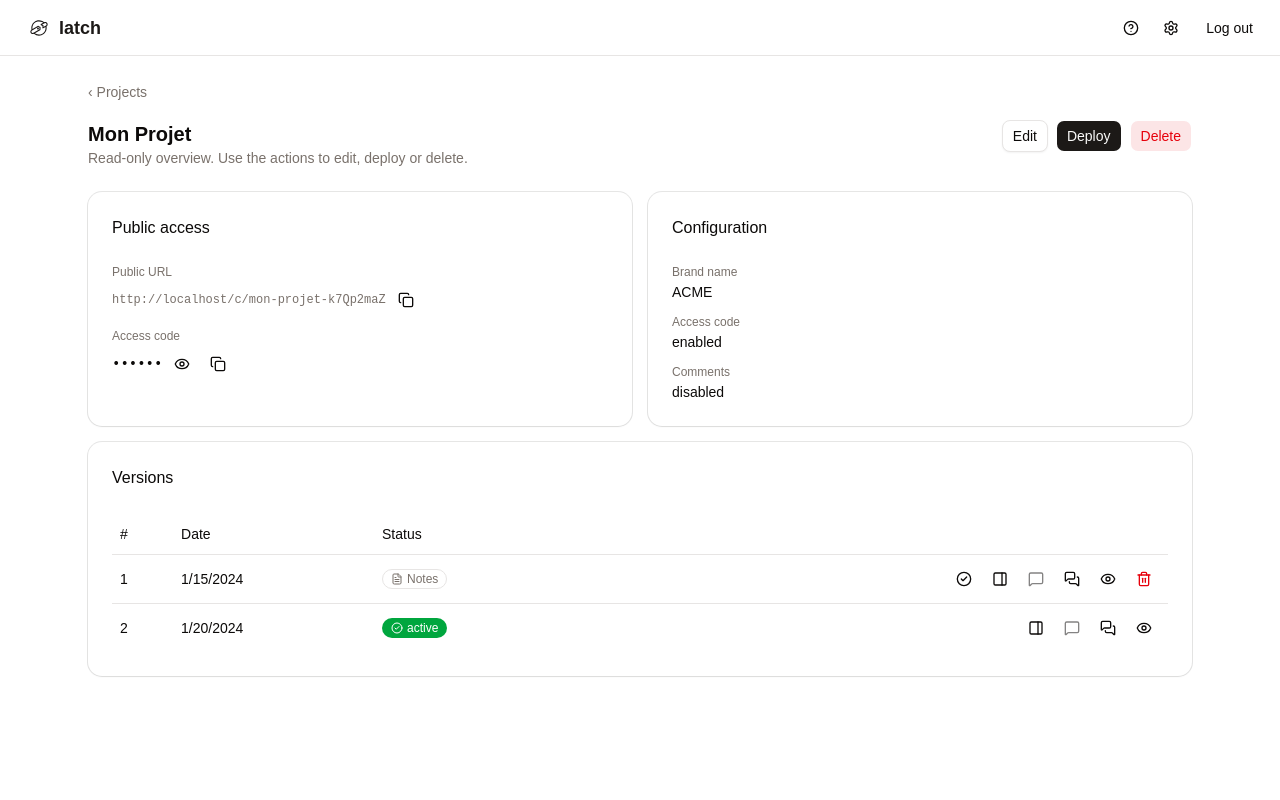
Test: DetailPage › opens the delete-version panel for a non-active version
The width and height of the screenshot is (1280, 800).
expect the text "Versions" is shown: met, box [112,469,173,486]
# Last "Delete" is the per-row one (header Delete is first).
Click the button named "Delete".
click(1144, 578)  # box [1128,562,1160,594]
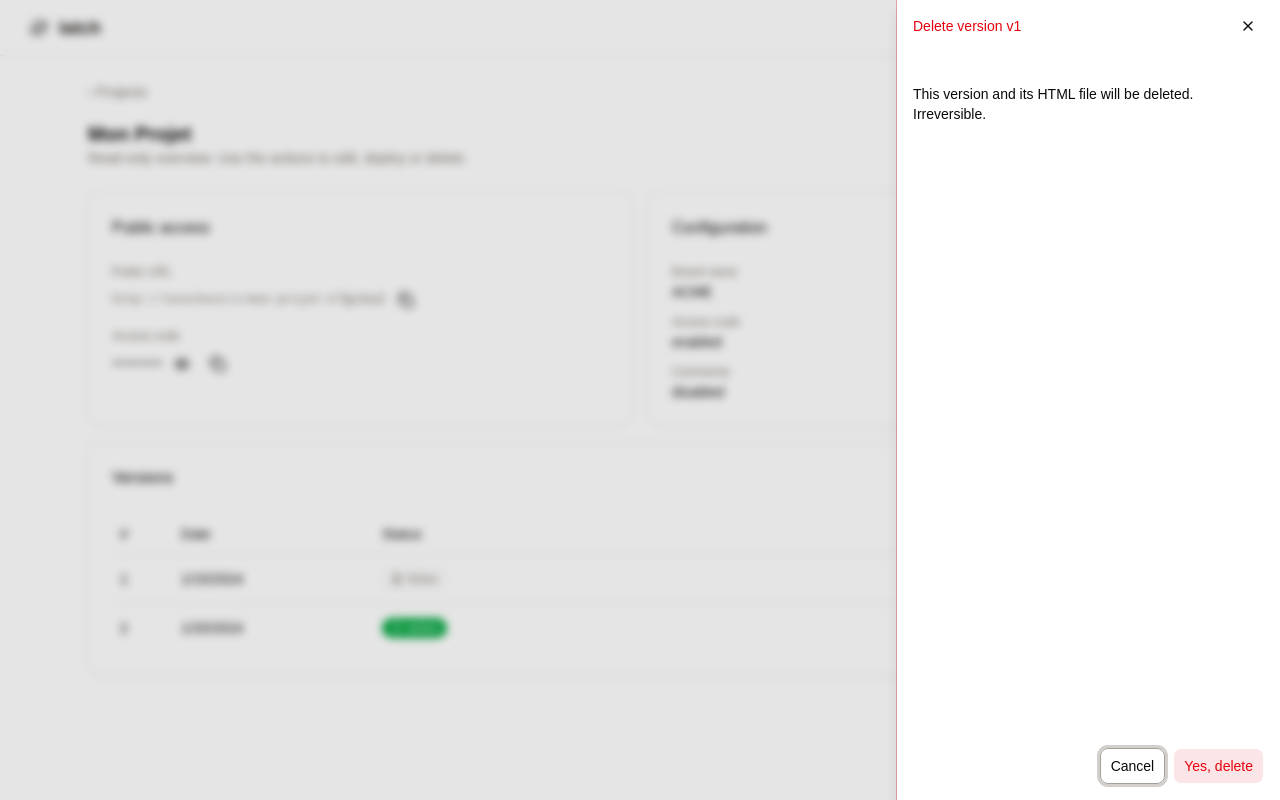
expect the heading "Delete version v1" is shown: met, box [913,18,1021,34]
